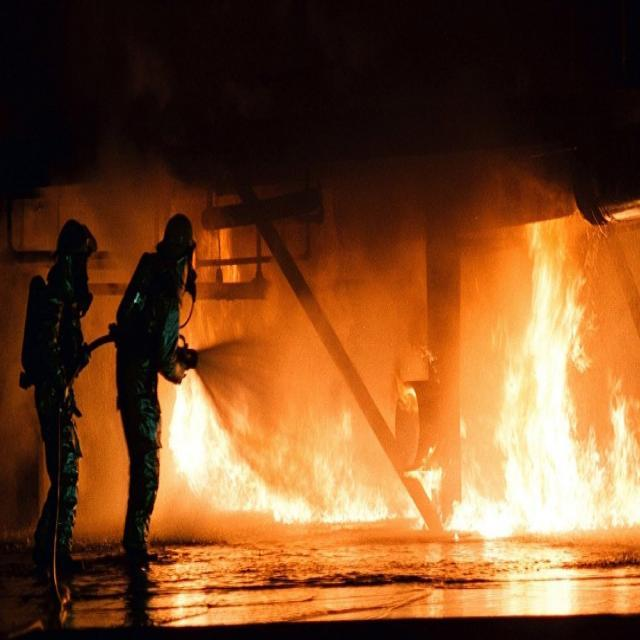Fire: (166, 192, 640, 550)
